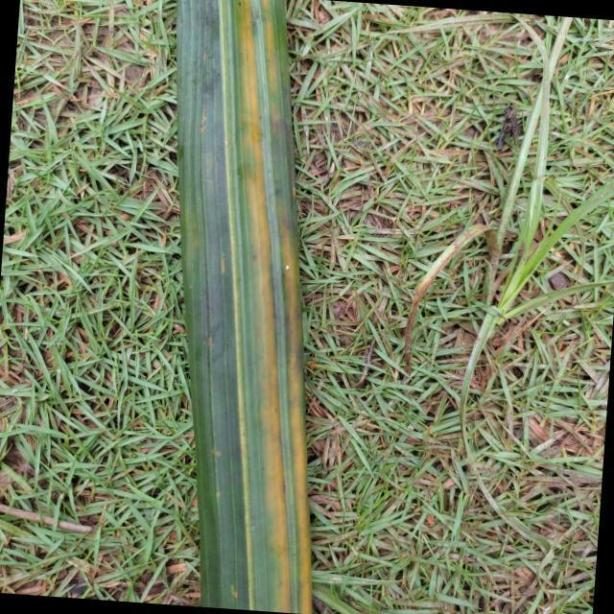Megnesium: (177, 0, 315, 614)
